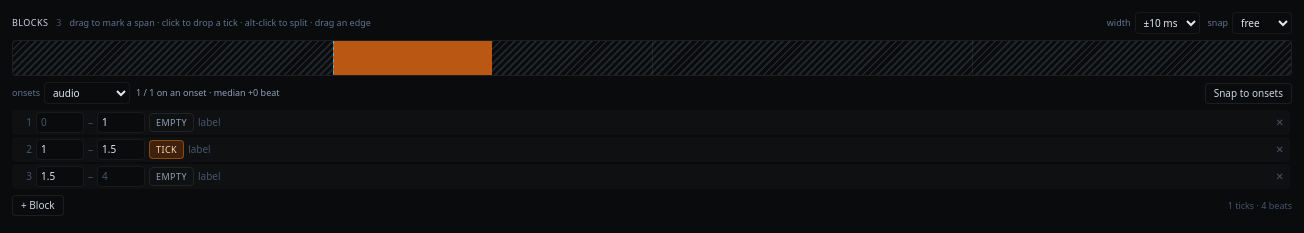
it: BoundarySegmentEditor › says so when a source could not be read
Step 1. Select "audio · bass" in the dropdown labelled "onsets" → (87, 93), box top-left (44, 82), bottom-right (130, 104)
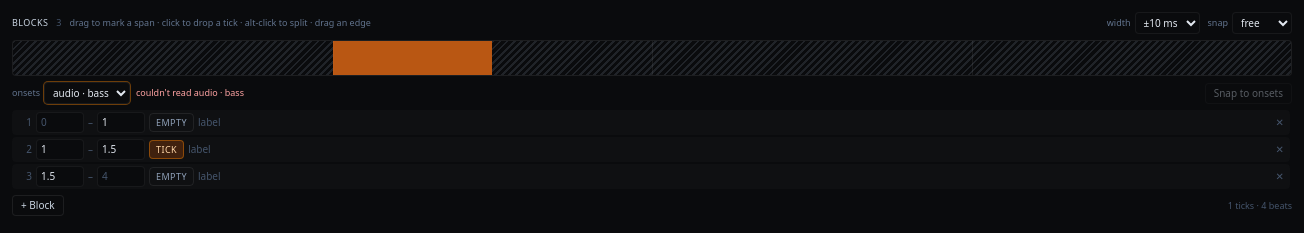
Check: the text "couldn't read audio · bass" is shown, box top-left (136, 86), bottom-right (244, 100)
